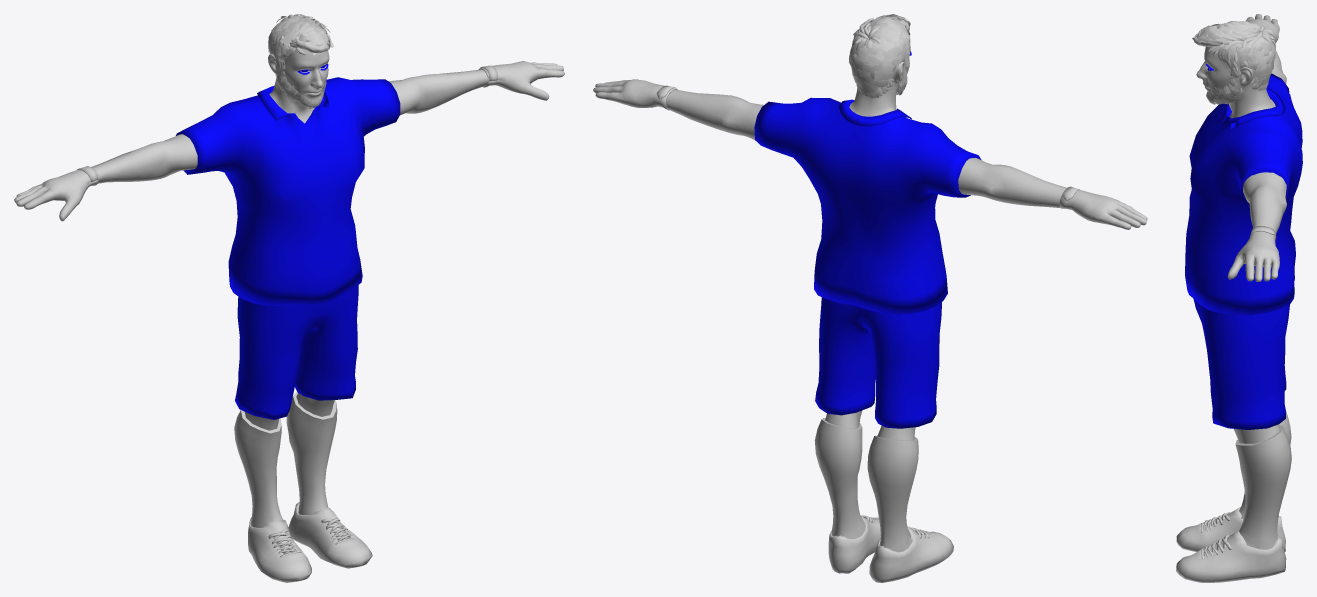
File: football-player.obj
3 views of the same model, side by side, from view 1: azimuth 30°, elevation 25°; view 2: azimuth 150°, elevation 25°; view 3: azimuth 270°, elevation 25° (orthographic).
Parts seen in each view (by area): view 1: Tops, Bottoms, Body, Socks, Shoes, Gloves, Hair; view 2: Tops, Bottoms, Socks, Body, Shoes, Hair, Gloves; view 3: Tops, Bottoms, Shoes, Socks, Body, Hair, Gloves, Beards.
Part boxes in pixels (x1=…): Tops: x1=176, y1=77, x2=400, y2=306; Bottoms: x1=235, y1=285, x2=358, y2=419; Body: x1=90, y1=19, x2=498, y2=430; Socks: x1=234, y1=392, x2=337, y2=527; Shoes: x1=248, y1=502, x2=372, y2=582; Gloves: x1=14, y1=61, x2=564, y2=221; Hair: x1=268, y1=14, x2=333, y2=75; Tops: x1=754, y1=97, x2=981, y2=314; Bottoms: x1=815, y1=297, x2=941, y2=428; Socks: x1=814, y1=418, x2=918, y2=552; Body: x1=666, y1=48, x2=1066, y2=440; Shoes: x1=828, y1=515, x2=953, y2=582; Hair: x1=849, y1=14, x2=910, y2=98; Gloves: x1=593, y1=79, x2=1147, y2=229; Tops: x1=1185, y1=73, x2=1302, y2=315; Bottoms: x1=1193, y1=298, x2=1289, y2=429; Shoes: x1=1176, y1=507, x2=1286, y2=582; Socks: x1=1235, y1=411, x2=1291, y2=549; Body: x1=1196, y1=32, x2=1286, y2=443; Hair: x1=1192, y1=21, x2=1275, y2=90; Gloves: x1=1227, y1=14, x2=1279, y2=281; Beards: x1=1206, y1=75, x2=1244, y2=104.
Size of the model in its own units: 1.94 by 1.82 by 0.3891.
